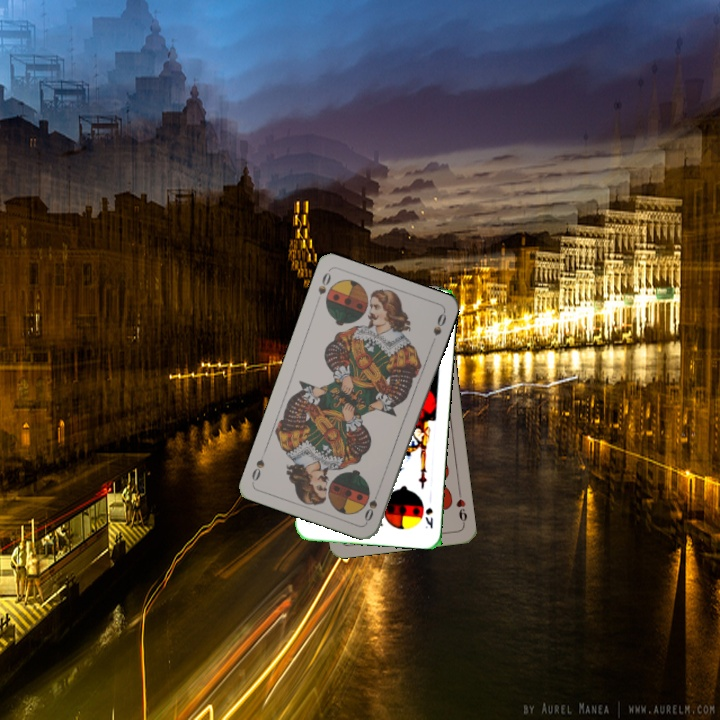H9: (452, 487, 470, 527)
SK: (421, 504, 436, 531)
SO: (360, 486, 382, 525), (314, 268, 334, 297)
